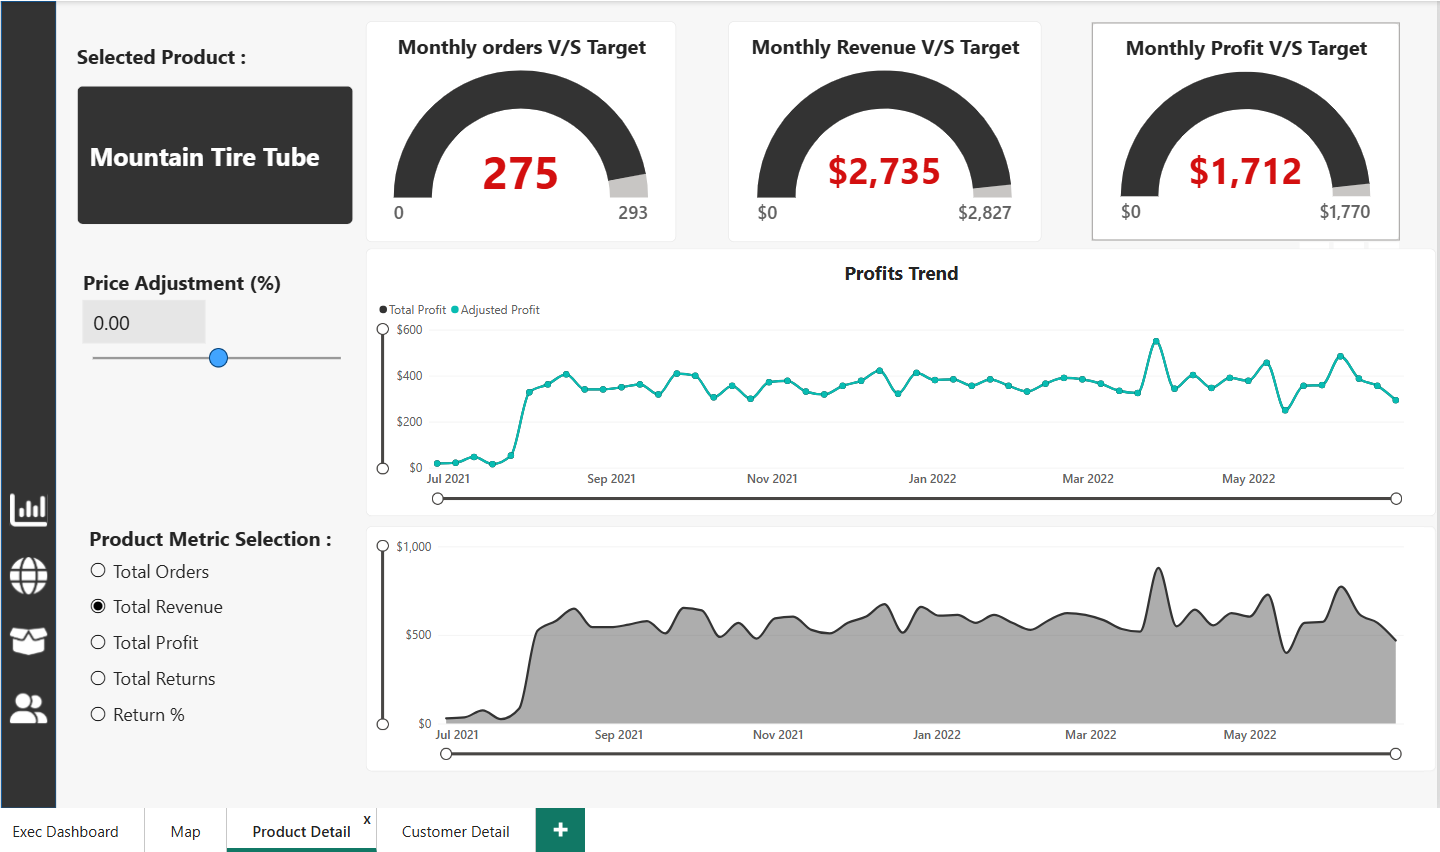

What the dashboard file says about the page in this screenshot:
{"tool":"powerbi","page":{"name":"Product Detail","canvas":[1920,1080],"ordinal":2},"visuals":[{"type":"shape","title":"Left Nav Pannel","box":[0,0,74,1080],"z":0},{"type":"actionButton","box":[0,641.3,74.5,78.3],"z":0,"group":"g1"},{"type":"gauge","title":"Monthly orders V/S Target","fields":{"MaxValue":[" Measures_Table.Order Target (+10%)"],"Y":[" Measures_Table.Total Orders"]},"box":[488,26.5,415.4,295.5],"z":1000},{"type":"actionButton","box":[0,817.5,74.5,78.3],"z":1000,"group":"g1"},{"type":"gauge","title":"Monthly Profit V/S Target","fields":{"MaxValue":[" Measures_Table.Profit Target (+10%)"],"Y":[" Measures_Table.Total Profit"]},"box":[1459,28.1,412,292.1],"z":2000},{"type":"actionButton","box":[0,729.4,74.5,78.3],"z":2000,"group":"g1"},{"type":"gauge","title":"Monthly Revenue V/S Target","fields":{"MaxValue":[" Measures_Table.Revenue Target"],"Y":[" Measures_Table.Total Revenue"]},"box":[971.8,26.5,418.8,295.5],"z":3000},{"type":"actionButton","box":[0,905.6,74.5,78.3],"z":3000,"group":"g1"},{"type":"lineChart","title":"Profits Trend","fields":{"Category":["Calendar Lookup.Date Hierarchy.Start of year","Calendar Lookup.Date Hierarchy.Start of month","Calendar Lookup.Date Hierarchy.Start of week","Calendar Lookup.Date Hierarchy.Date"],"Y":[" Measures_Table.Total Profit"," Measures_Table.Adjusted Profit"]},"box":[488.2,331.7,1431.1,357.8],"z":4000},{"type":"cardVisual","fields":{"Data":["Min(Product Lookup.ProductName)"]},"box":[100.6,113.7,370.8,186.3],"z":6000},{"type":"textbox","box":[100.6,55.9,387.6,41],"z":7000},{"type":"group","id":"g1","title":"Page Navigations","box":[0,641.3,74.5,342.6],"z":8000},{"type":"slicer","fields":{"Values":["Price Adjustment (%).Price Adjustment (%)"]},"box":[101.2,358.6,371.8,255.2],"z":9000},{"type":"slicer","fields":{"Values":["Product Metric Selection .Product Metric Selection "]},"box":[109.9,700.7,370.8,300],"z":10000},{"type":"areaChart","fields":{"Category":["Calendar Lookup.Date Hierarchy.Start of year","Calendar Lookup.Date Hierarchy.Start of month","Calendar Lookup.Date Hierarchy.Start of week","Calendar Lookup.Date Hierarchy.Date"],"Y":[" Measures_Table.Return Rate"]},"box":[488.2,702.5,1431.1,328],"z":11000}]}

Visuals, with their boxes on the page's 1920x1080 design canvas (x1, y1, x2, y2). These are canvas units, not pixel positions in the 1440x852 screenshot, which may show the page scaled, cropped or inside an application window:
"Left Nav Pannel" shape: [x1=0, y1=0, x2=74, y2=1080]
actionButton: [x1=0, y1=641, x2=74, y2=720]
"Monthly orders V/S Target" gauge: [x1=488, y1=26, x2=903, y2=322]
actionButton: [x1=0, y1=818, x2=74, y2=896]
"Monthly Profit V/S Target" gauge: [x1=1459, y1=28, x2=1871, y2=320]
actionButton: [x1=0, y1=729, x2=74, y2=808]
"Monthly Revenue V/S Target" gauge: [x1=972, y1=26, x2=1391, y2=322]
actionButton: [x1=0, y1=906, x2=74, y2=984]
"Profits Trend" lineChart: [x1=488, y1=332, x2=1919, y2=690]
cardVisual - Min(Product Lookup.ProductName): [x1=101, y1=114, x2=471, y2=300]
textbox: [x1=101, y1=56, x2=488, y2=97]
"Page Navigations" group: [x1=0, y1=641, x2=74, y2=984]
slicer - Price Adjustment (%).Price Adjustment (%): [x1=101, y1=359, x2=473, y2=614]
slicer - Product Metric Selection .Product Metric Selection : [x1=110, y1=701, x2=481, y2=1001]
areaChart - Calendar Lookup.Date Hierarchy.Start of year x Calendar Lookup.Date Hierarchy.Start of month: [x1=488, y1=702, x2=1919, y2=1030]
